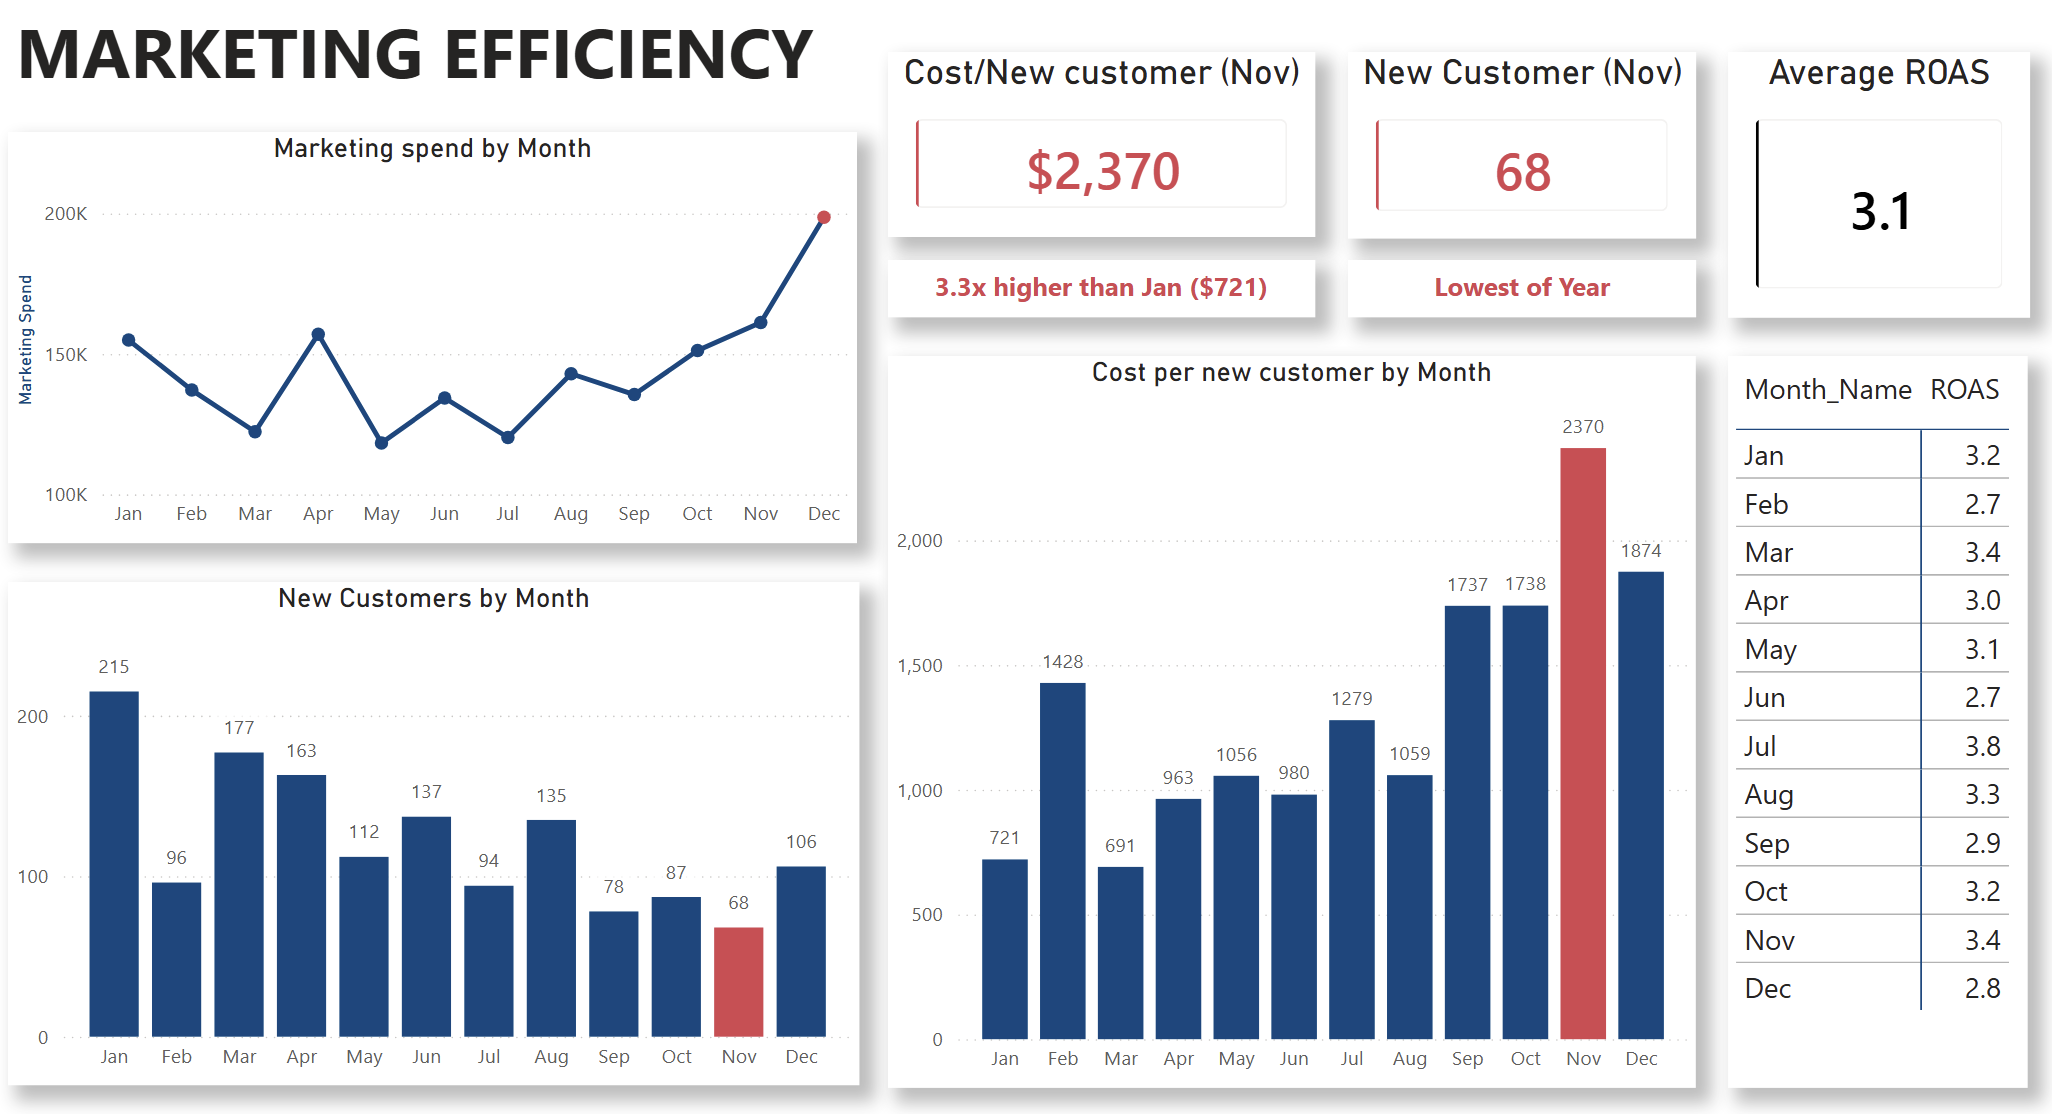

This screenshot's page, from the dashboard's own definition file:
{"tool":"powerbi","page":{"name":"Marketing","canvas":[1280,720],"ordinal":2},"visuals":[{"type":"cardVisual","title":"Average ROAS","fields":{"Data":["Measure.Average ROAS"]},"box":[1076.6,55.7,187.1,164.3],"z":0},{"type":"cardVisual","title":"Cost/New customer (Nov)","fields":{"Data":["Measure.Cost per new customer \"nov\""]},"box":[557.5,55.7,264.3,114.3],"z":1000},{"type":"lineChart","title":"Marketing spend by Month","fields":{"Category":["dim_date.Month_Name"],"Y":["Sum(dim_marketing.Total_Spend)"]},"box":[12.9,105.7,525.7,254.3],"z":2000},{"type":"lineClusteredColumnComboChart","title":"New Customers by Month","fields":{"Category":["dim_date.Month_Name"],"Y":["Sum(ecommerce_2019 mkt_vs_new.Khach_Moi)"]},"box":[12.9,384.3,527.1,311.4],"z":3000},{"type":"cardVisual","title":"New Customer (Nov)","fields":{"Data":["Measure.new Customer \"Nov\""]},"box":[841.8,55.7,215.7,115.7],"z":4000},{"type":"pivotTable","fields":{"Rows":["dim_date.Month_Name"],"Values":["Measure.ROAS"]},"box":[1076.6,244.3,185.7,452.9],"z":5000},{"type":"textbox","box":[12.9,21.4,530,72.9],"z":6000},{"type":"clusteredColumnChart","title":"Cost per new customer by Month","fields":{"Category":["dim_date.Month_Name"],"Y":["Measure.Cost per new customer"]},"box":[557.5,243.9,500,452.9],"z":7000},{"type":"textbox","box":[557.5,184.3,264.3,35.7],"z":8000},{"type":"textbox","box":[841.8,184.3,215.7,35.7],"z":9000}]}

Visuals, with their boxes on the page's 1280x720 design canvas (x1, y1, x2, y2). These are canvas units, not pixel positions in the 2052x1114 screenshot, which may show the page scaled, cropped or inside an application window:
"Average ROAS" cardVisual: <box>1077,56,1264,220</box>
"Cost/New customer (Nov)" cardVisual: <box>558,56,822,170</box>
"Marketing spend by Month" lineChart: <box>13,106,539,360</box>
"New Customers by Month" lineClusteredColumnComboChart: <box>13,384,540,696</box>
"New Customer (Nov)" cardVisual: <box>842,56,1058,171</box>
pivotTable - dim_date.Month_Name x Measure.ROAS: <box>1077,244,1262,697</box>
textbox: <box>13,21,543,94</box>
"Cost per new customer by Month" clusteredColumnChart: <box>558,244,1058,697</box>
textbox: <box>558,184,822,220</box>
textbox: <box>842,184,1058,220</box>
